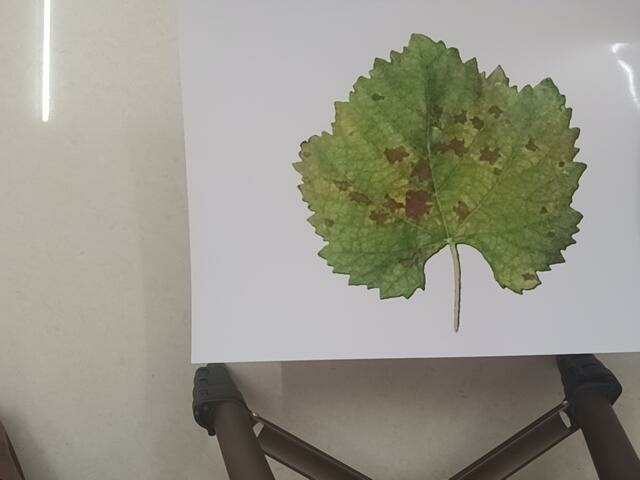Grape_Leaf_Vine_Disease: (292, 50, 604, 332)
